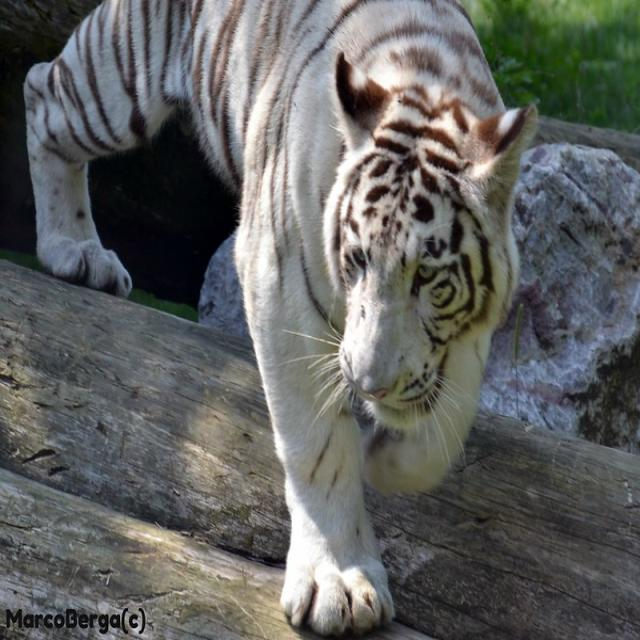Tiger: (22, 0, 540, 634)
